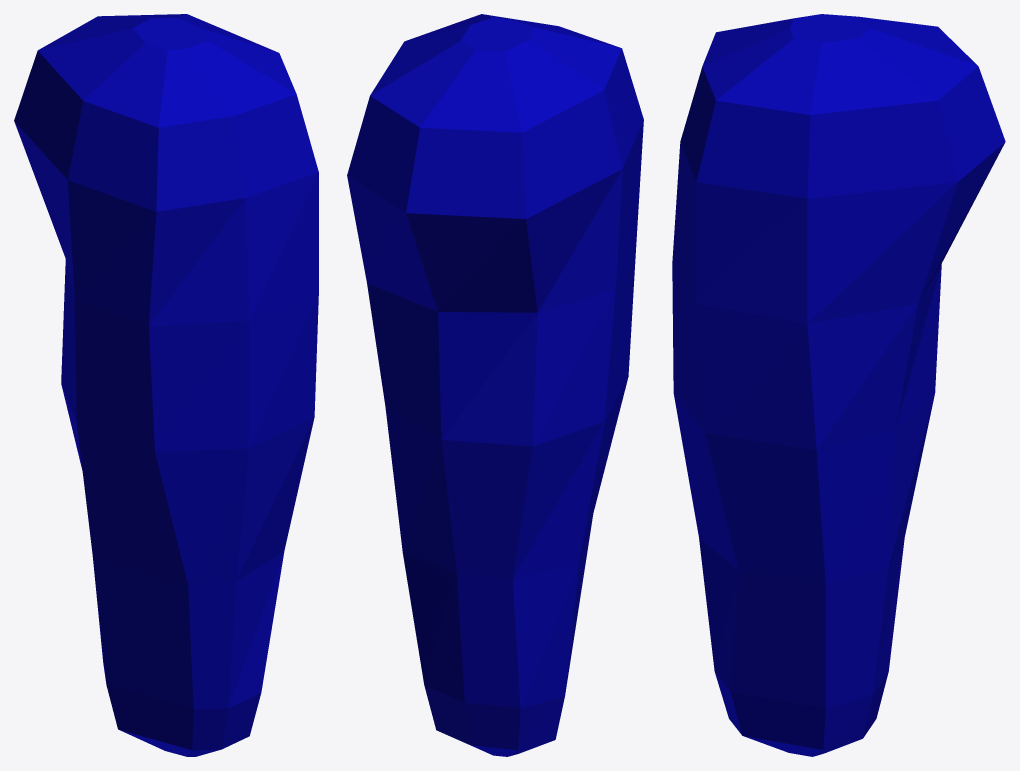
Rendered from LThigh_mesh.dae.
3 renders of one model, left to right at view 1: azimuth 30°, elevation 25°; view 2: azimuth 150°, elevation 25°; view 3: azimuth 270°, elevation 25°, orthographic.
Visible parts, largest first — view 1: LThigh; view 2: LThigh; view 3: LThigh.
Part boxes in pixels (box(x1,y1,x2,y2)): LThigh: box(14, 14, 318, 756); LThigh: box(347, 14, 643, 756); LThigh: box(672, 14, 1005, 756).
Bounding box in the file's own units: 0.17 × 0.4852 × 0.2042.
